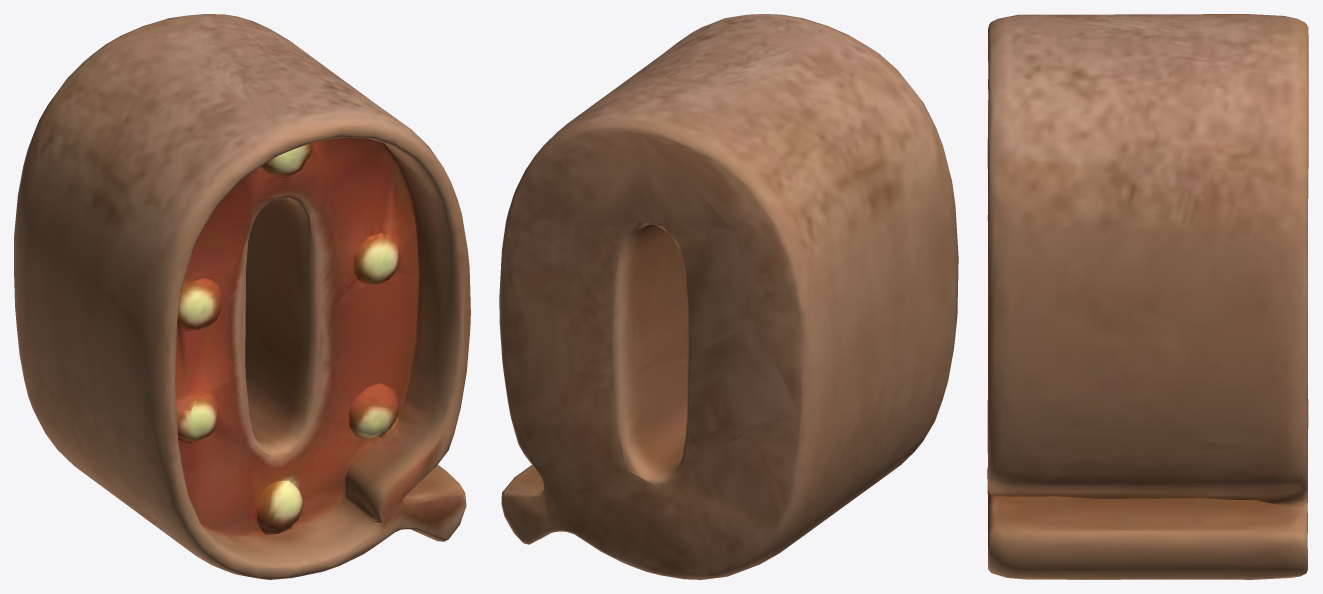
Rendered from letter_q_idle.glb.
3 views of the same model, side by side, from view 1: azimuth 30°, elevation 25°; view 2: azimuth 150°, elevation 25°; view 3: azimuth 270°, elevation 25° (orthographic). The views are drawn at different scales.
Parts seen in each view (by area): view 1: tmp_letters_partial_l_s_04; view 2: tmp_letters_partial_l_s_04; view 3: tmp_letters_partial_l_s_04.
Part boxes in pixels (<box>): tmp_letters_partial_l_s_04: <box>14,14,470,579</box>; tmp_letters_partial_l_s_04: <box>499,14,958,579</box>; tmp_letters_partial_l_s_04: <box>987,14,1308,579</box>.
Bounding box in the file's own units: 0.7326 × 0.9984 × 0.6074.
1 material, 1 textured.
